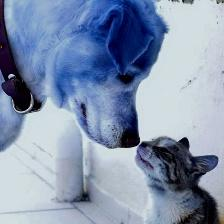kedo: (136, 137, 219, 223)
